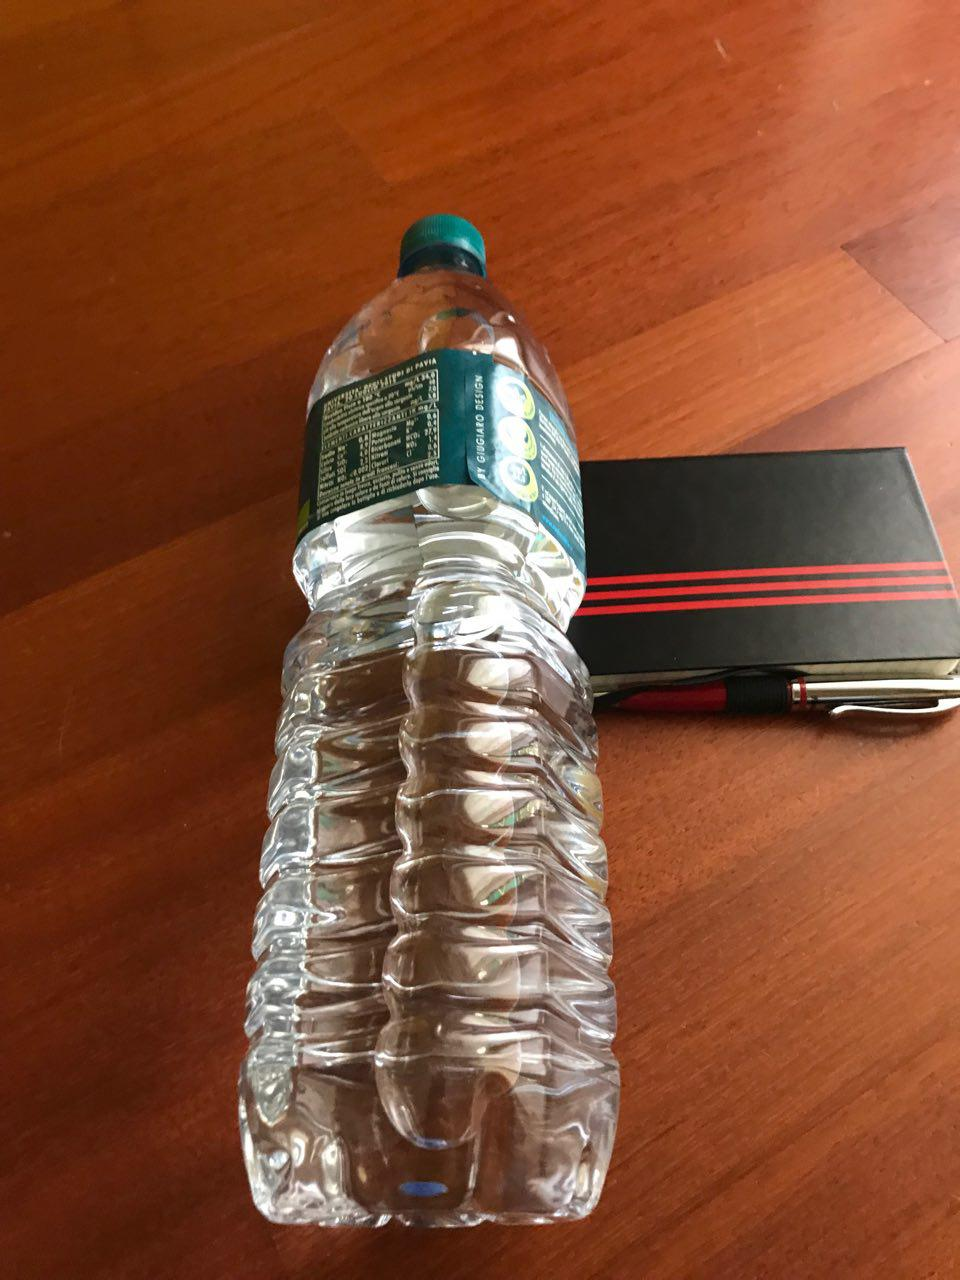san_bernardo: (232, 210, 624, 1235)
